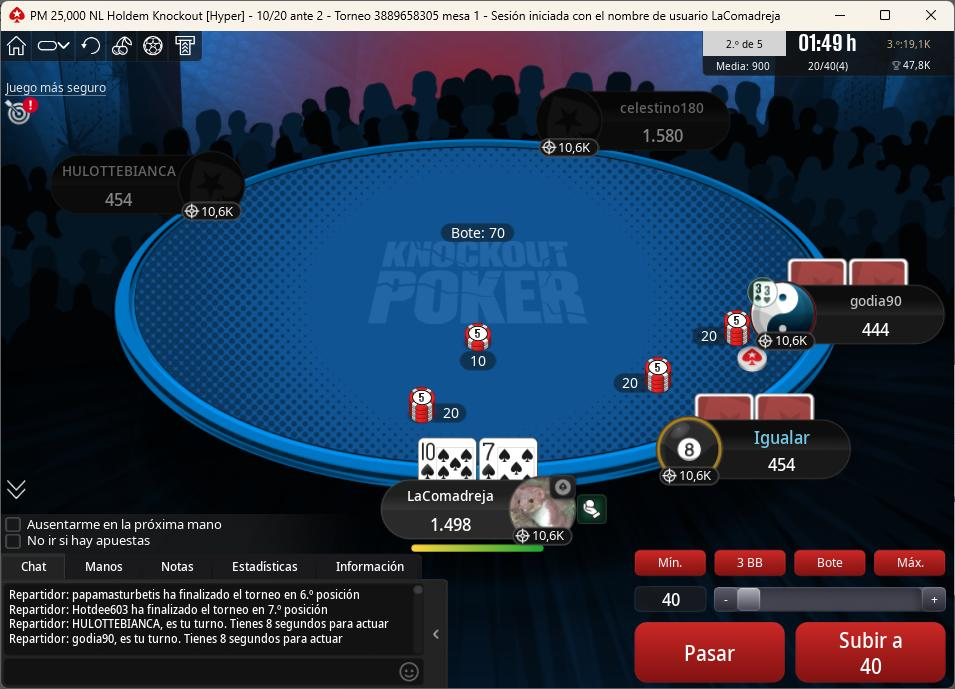ButtonCheck: (632, 624, 789, 684)
ButtonMaxRaise: (871, 547, 950, 575)
ButtonMinRaise: (633, 547, 711, 580)
ButtonPotRaise: (794, 549, 868, 582)
ButtonRaise: (792, 618, 947, 684)
Dealer: (732, 338, 772, 381)
HiddenCards: (692, 393, 821, 423), (786, 259, 913, 286)
Player: (745, 283, 951, 352), (650, 421, 852, 489), (50, 151, 247, 215), (546, 92, 734, 158)
PlayerBet: (610, 353, 686, 400), (687, 309, 759, 351)
PlayerChips: (633, 125, 692, 144), (762, 455, 806, 476), (95, 191, 140, 211), (857, 322, 899, 342)
Pot: (438, 223, 517, 244)
PrincipalBet: (406, 387, 474, 427)
PrincipalCards: (413, 438, 542, 484)
PrincipalCards1: (416, 438, 479, 480)
PrincipalCards2: (478, 437, 539, 482)
PrincipalPlayer: (385, 474, 587, 551)
PrincipalPlayerChips: (422, 517, 483, 537)
SmallBigBlind: (247, 1, 333, 28)
TablePot: (456, 322, 524, 380)
